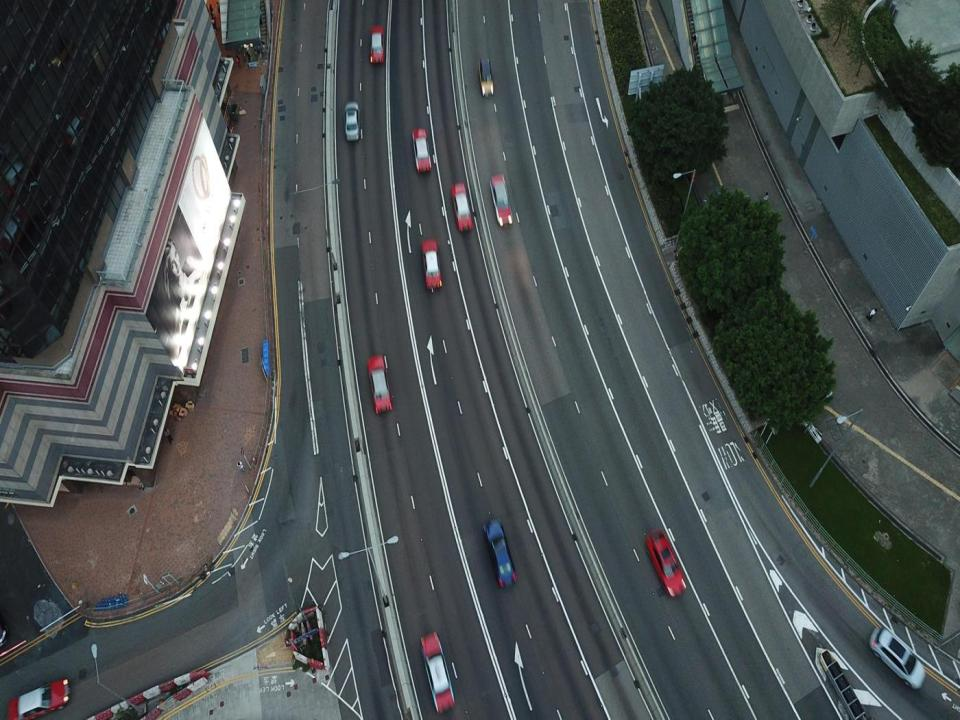car: (420, 633, 456, 713), (646, 530, 687, 598), (9, 677, 70, 719), (483, 518, 517, 587), (367, 355, 392, 414), (490, 172, 512, 225), (451, 182, 473, 232), (421, 239, 442, 289), (412, 128, 433, 174), (344, 100, 360, 142), (479, 57, 493, 97), (370, 25, 384, 63)
van: (870, 627, 927, 687)
